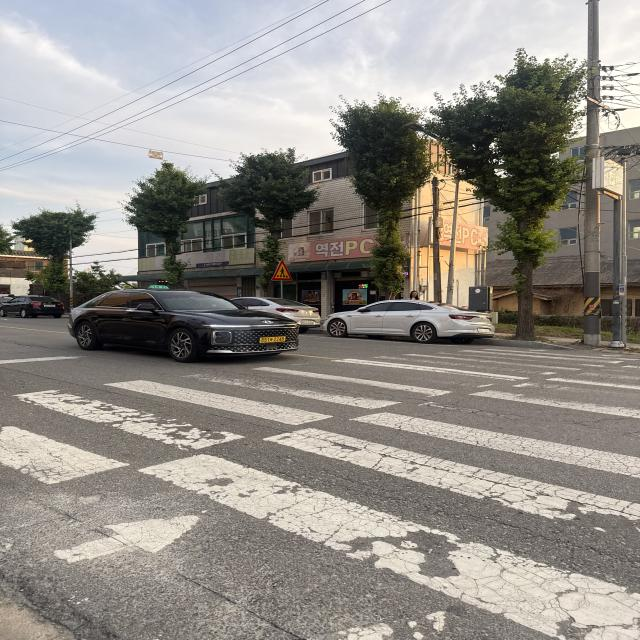car: (69, 287, 304, 363), (328, 299, 482, 344), (0, 295, 64, 318)
